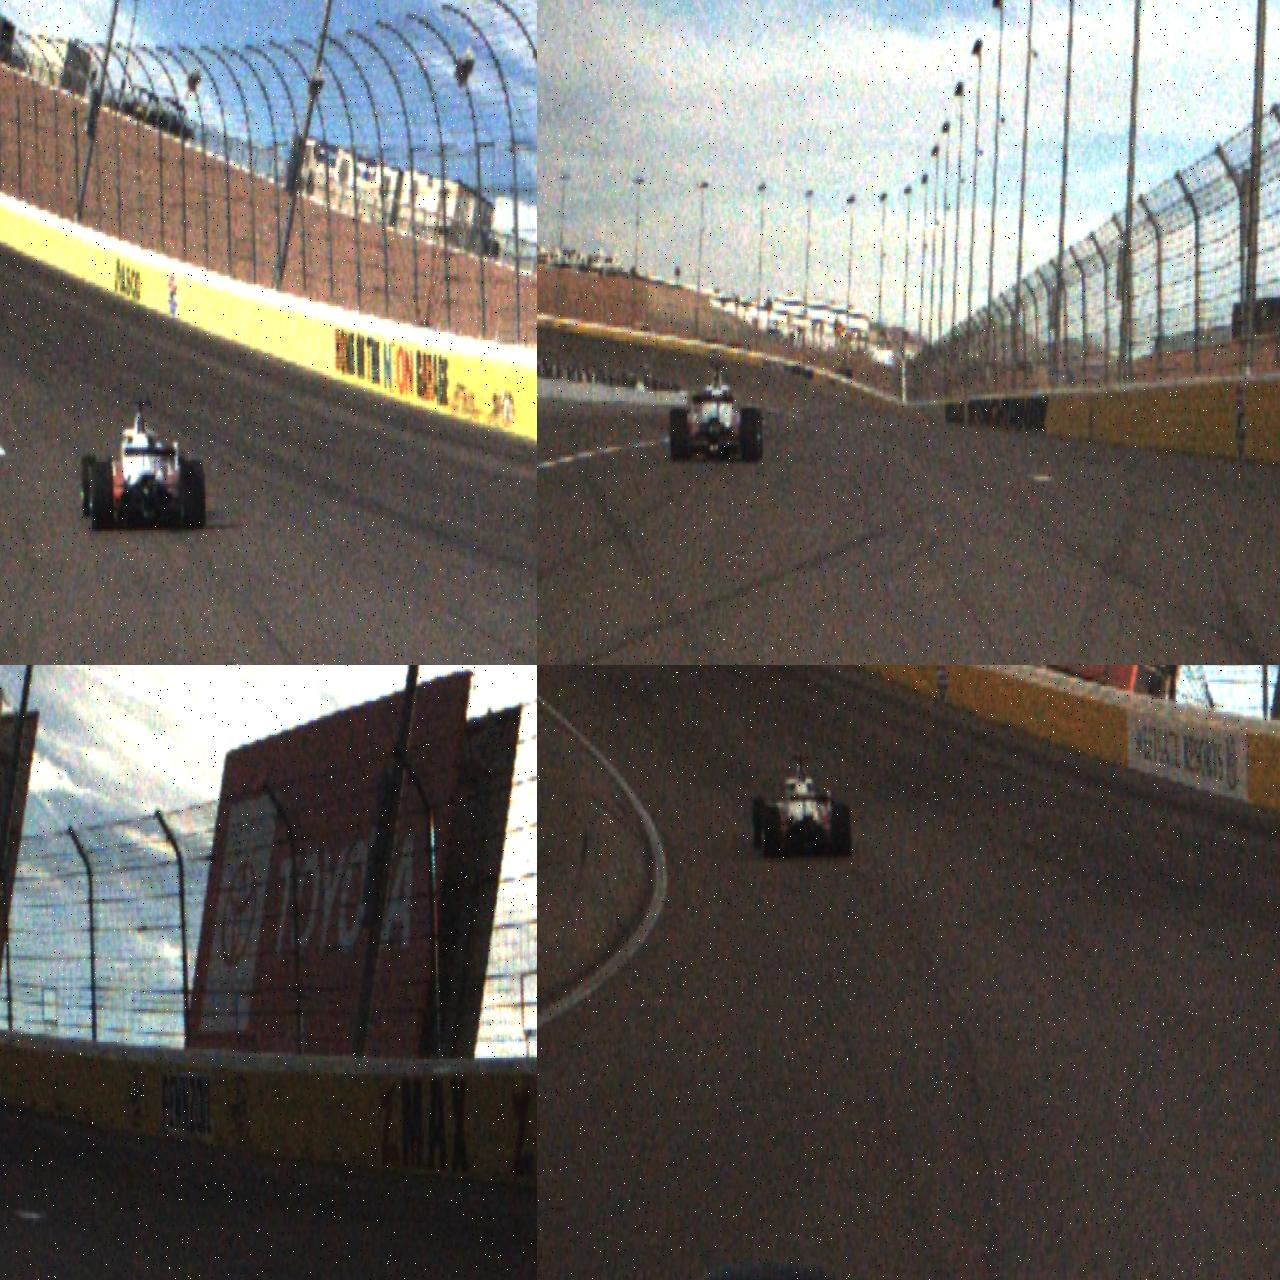AV: (80, 398, 206, 532), (751, 752, 852, 861), (668, 361, 764, 465)
Wheel: (90, 461, 114, 532), (182, 460, 205, 530), (670, 406, 690, 463), (740, 406, 760, 463), (81, 453, 98, 518), (832, 804, 852, 856), (762, 806, 781, 860), (751, 796, 766, 850)
